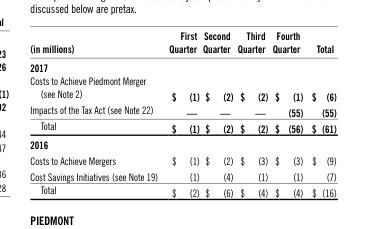table: (29, 28, 335, 198)
table column: (29, 28, 162, 198), (162, 28, 200, 198), (269, 28, 306, 198), (234, 28, 269, 198), (200, 28, 234, 198), (306, 28, 335, 198)
table column header: (29, 28, 335, 57)
table projected row header: (29, 57, 335, 73), (29, 135, 335, 151)
table row: (29, 28, 335, 57), (29, 73, 335, 102), (29, 118, 335, 135), (29, 151, 335, 168), (29, 57, 335, 73), (29, 102, 335, 118), (29, 135, 335, 151), (29, 182, 335, 198), (29, 168, 335, 182)
